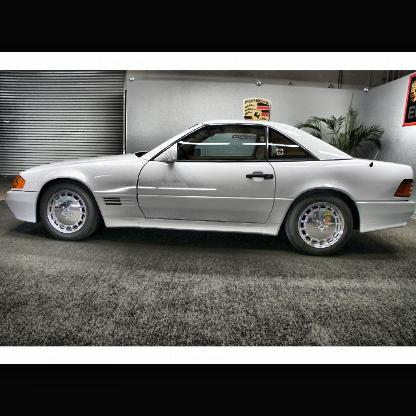Mercedes-Benz 300-Class Convertible 1993: (4, 117, 415, 263)
